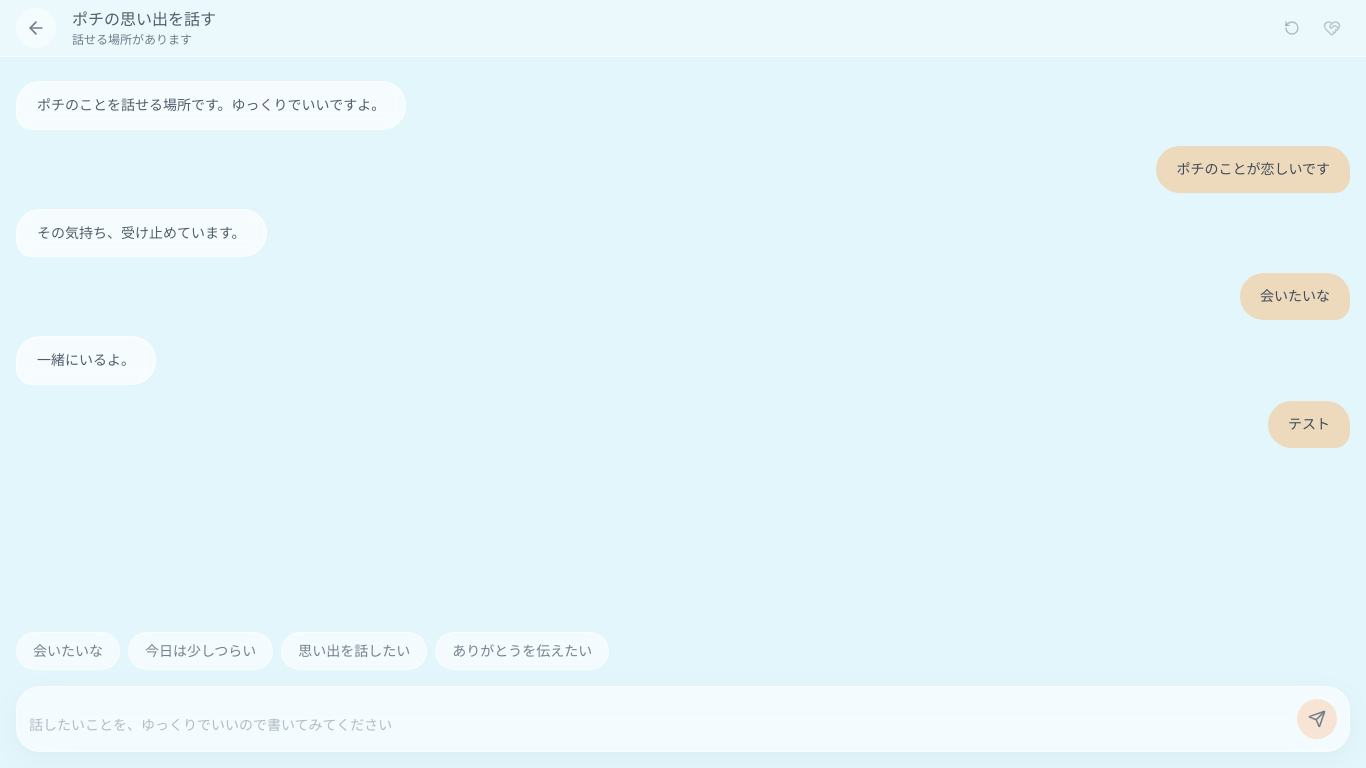
it: ChatScreen › レート制限(429)時に適切なエラーメッセージが表示される
The image size is (1366, 768).
In the text box with placeholder "話したいことを、ゆっくりでいいので書いてみてください": point(657, 727) [29, 715, 1285, 739], type "テスト"
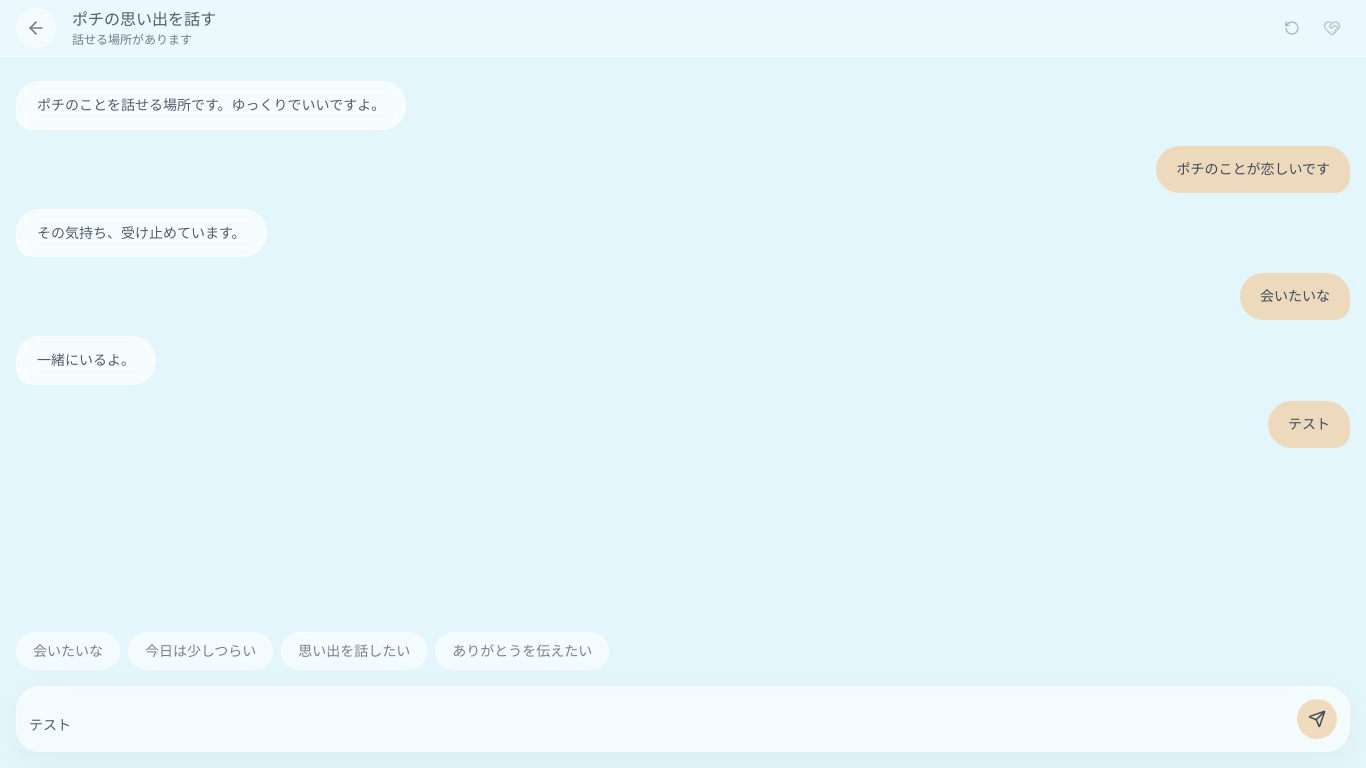
Press Enter
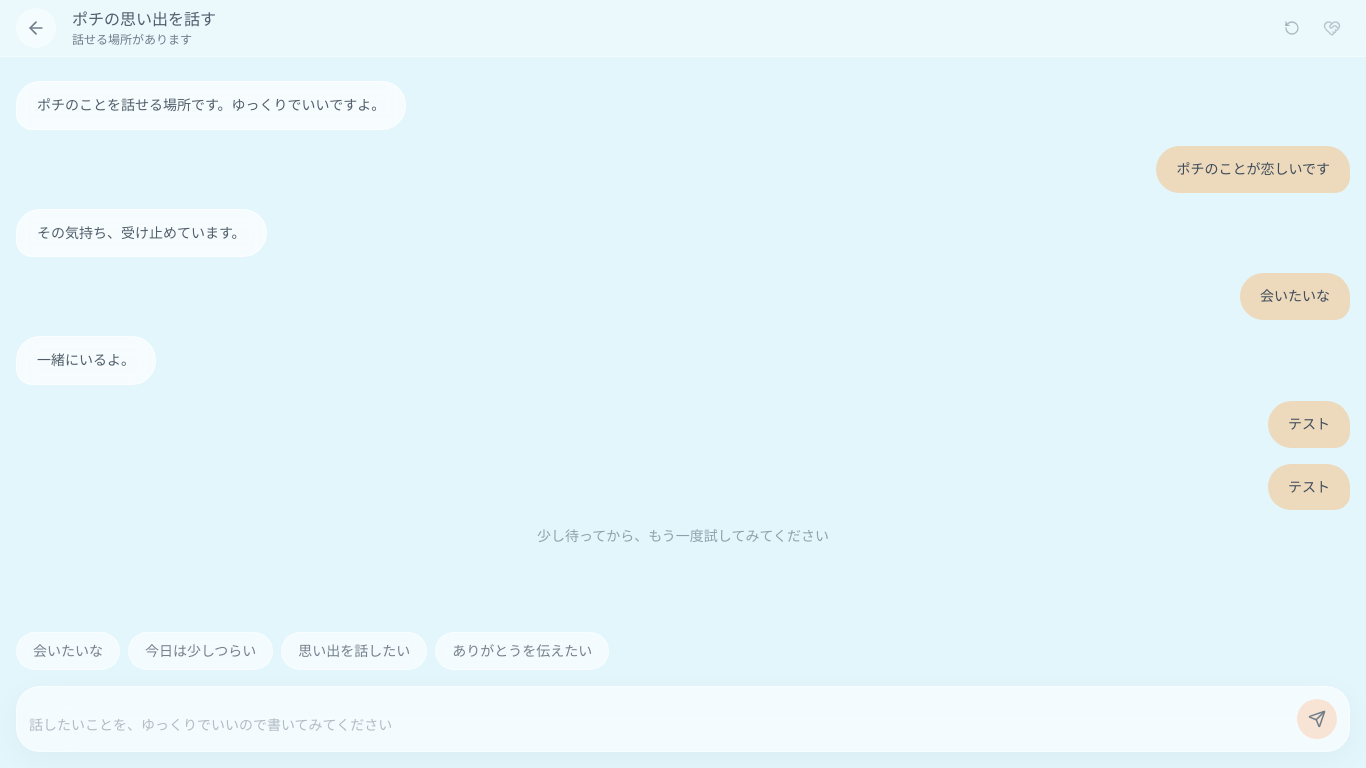
Result: the text "少し待ってから、もう一度試してみてください" is shown at [537, 528, 829, 544]
